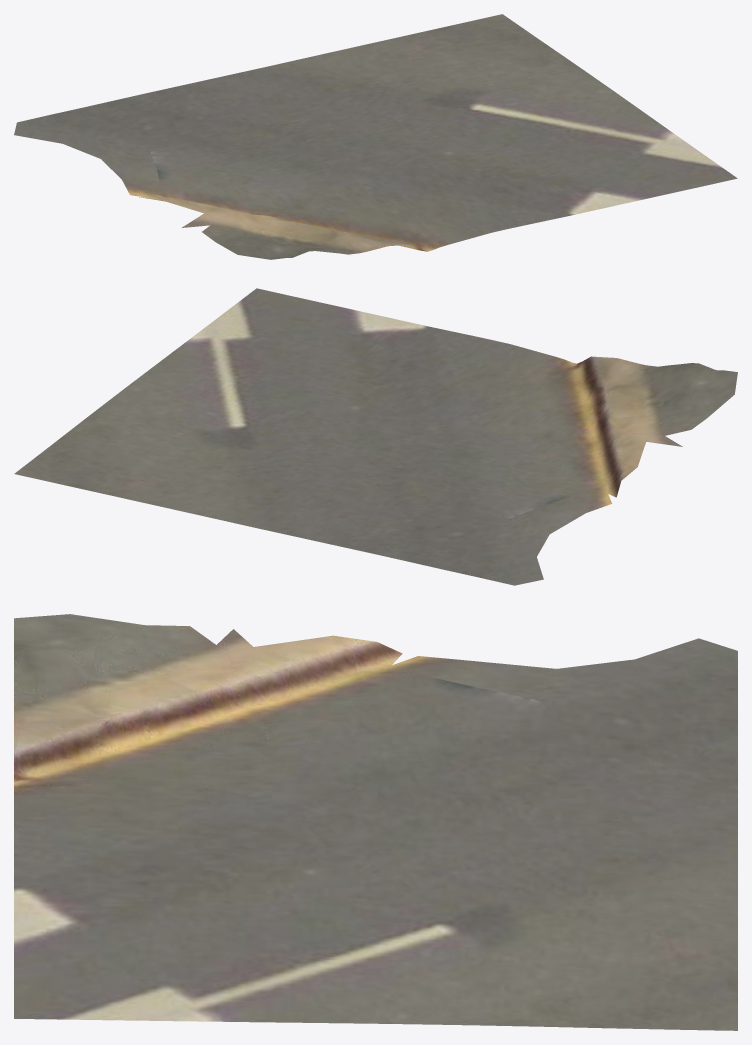
The picture shows the model from 3 angles, top to bottom: view 1: azimuth 30°, elevation 25°; view 2: azimuth 150°, elevation 25°; view 3: azimuth 270°, elevation 25°; orthographic projection. The views are drawn at different scales.
Bounding box in the file's own units: 5.56 × 0.428 × 4.52.
Materials: 1 (1 with a texture image).
